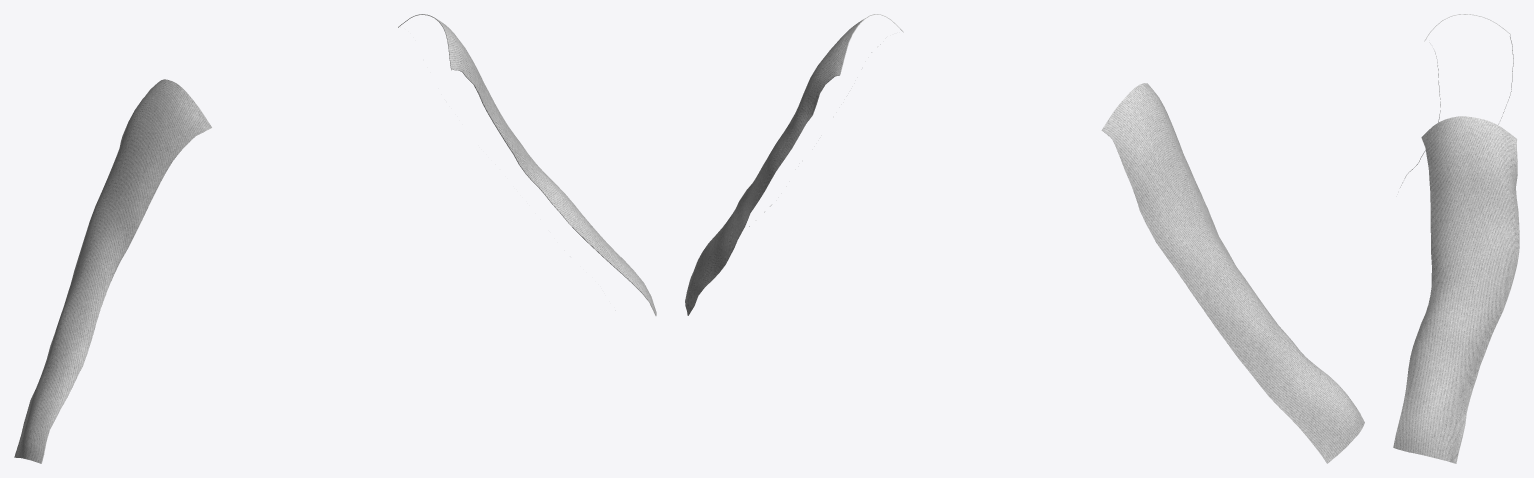
File: Decor_Hand_Up_V2.glb
The picture shows the model from 3 angles, left to right: view 1: azimuth 30°, elevation 25°; view 2: azimuth 150°, elevation 25°; view 3: azimuth 270°, elevation 25°; orthographic projection. The views are drawn at different scales.
Parts seen in each view (by area): view 1: Decor_Hand_Up_V21, Rope1; view 2: Decor_Hand_Up_V21, Rope1; view 3: Decor_Hand_Up_V21, Rope1.
Part boxes in pixels (bbox=[...]): Decor_Hand_Up_V21: bbox=[14, 14, 656, 463]; Rope1: bbox=[15, 27, 654, 463]; Decor_Hand_Up_V21: bbox=[685, 14, 1364, 463]; Rope1: bbox=[688, 32, 1364, 463]; Decor_Hand_Up_V21: bbox=[1393, 14, 1519, 463]; Rope1: bbox=[1393, 34, 1519, 463].
Bounding box in the file's own units: 1.71 × 0.8615 × 0.3578.
Materials: 2 (2 with a texture image).
